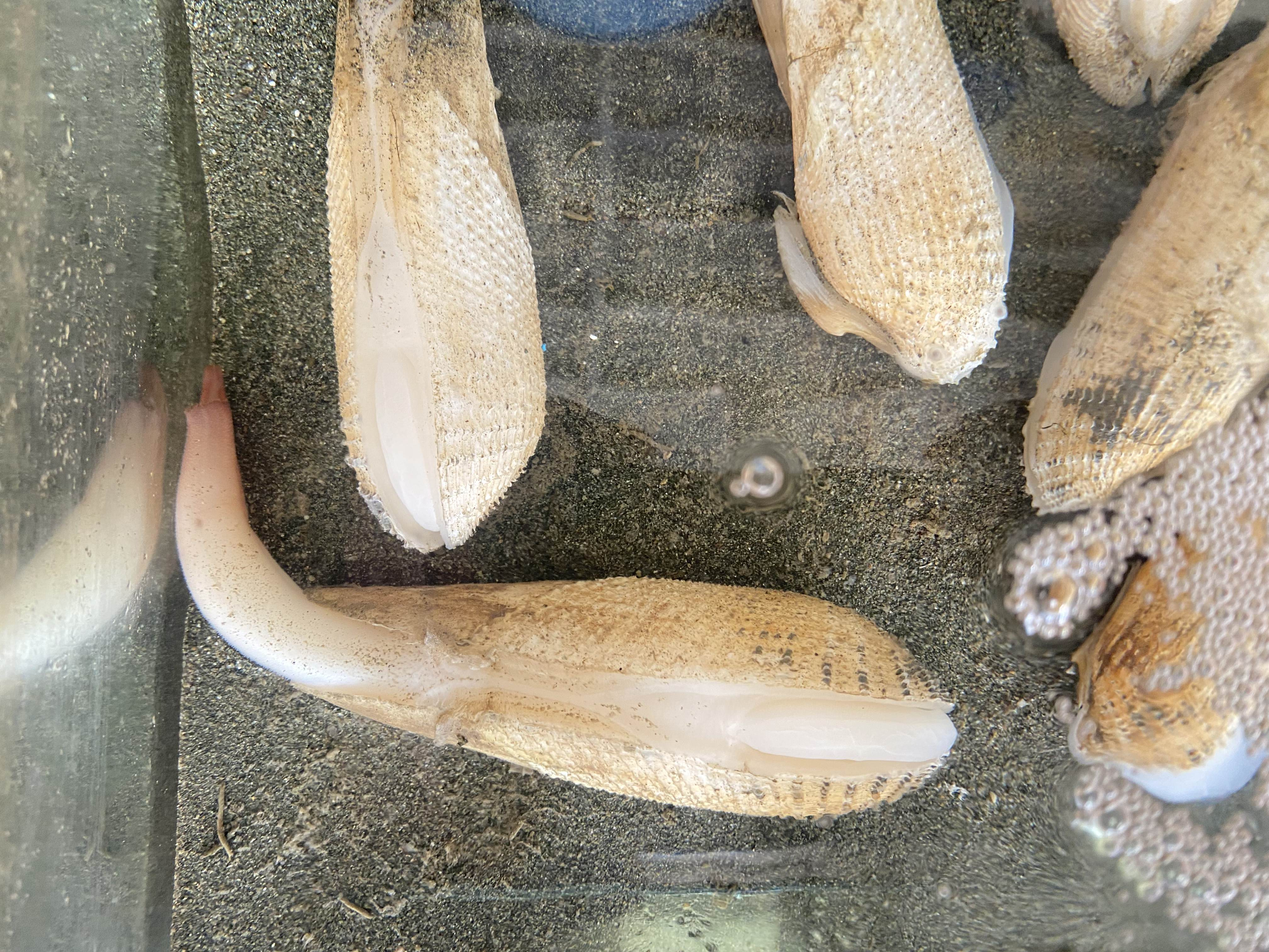Healthy: (176, 368, 956, 816), (327, 0, 544, 551), (1024, 26, 1269, 513), (754, 0, 1013, 383)
